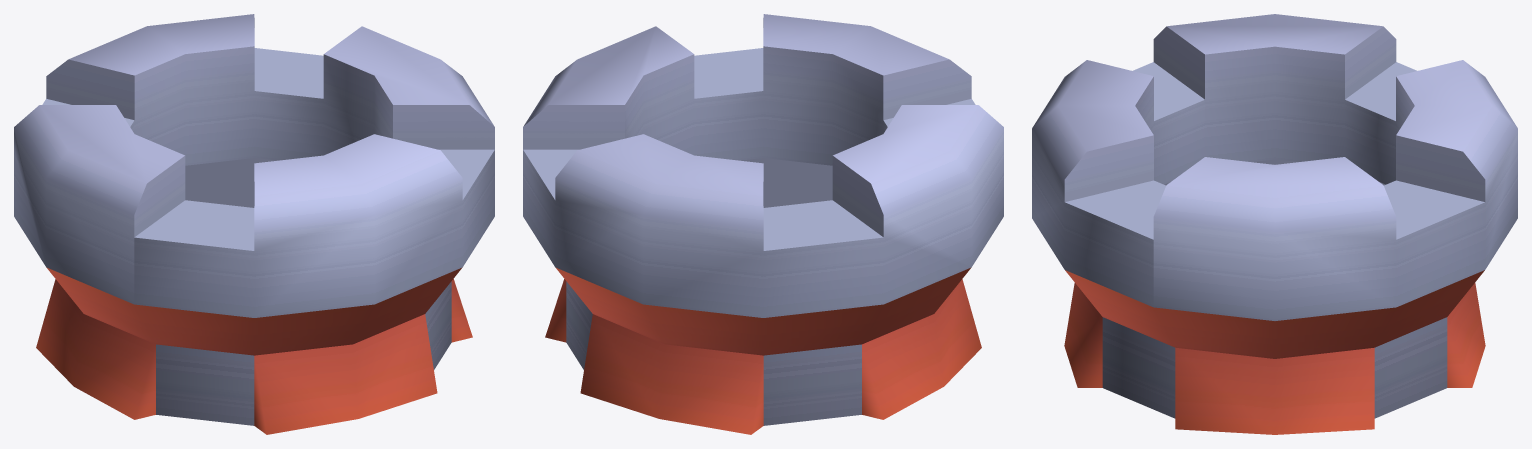
File: tower-round-top-c.glb
3 renders of one model, left to right at view 1: azimuth 30°, elevation 25°; view 2: azimuth 150°, elevation 25°; view 3: azimuth 270°, elevation 25°, orthographic.
Visible parts, largest first — view 1: tower-round-top-c; view 2: tower-round-top-c; view 3: tower-round-top-c.
Boxes of the visible parts, bbox=[...] form: tower-round-top-c: bbox=[14, 14, 494, 434]; tower-round-top-c: bbox=[523, 14, 1003, 434]; tower-round-top-c: bbox=[1032, 14, 1517, 434].
Bounding box in the file's own units: 0.976 × 0.5325 × 0.976.
Materials: 1 (1 with a texture image).
